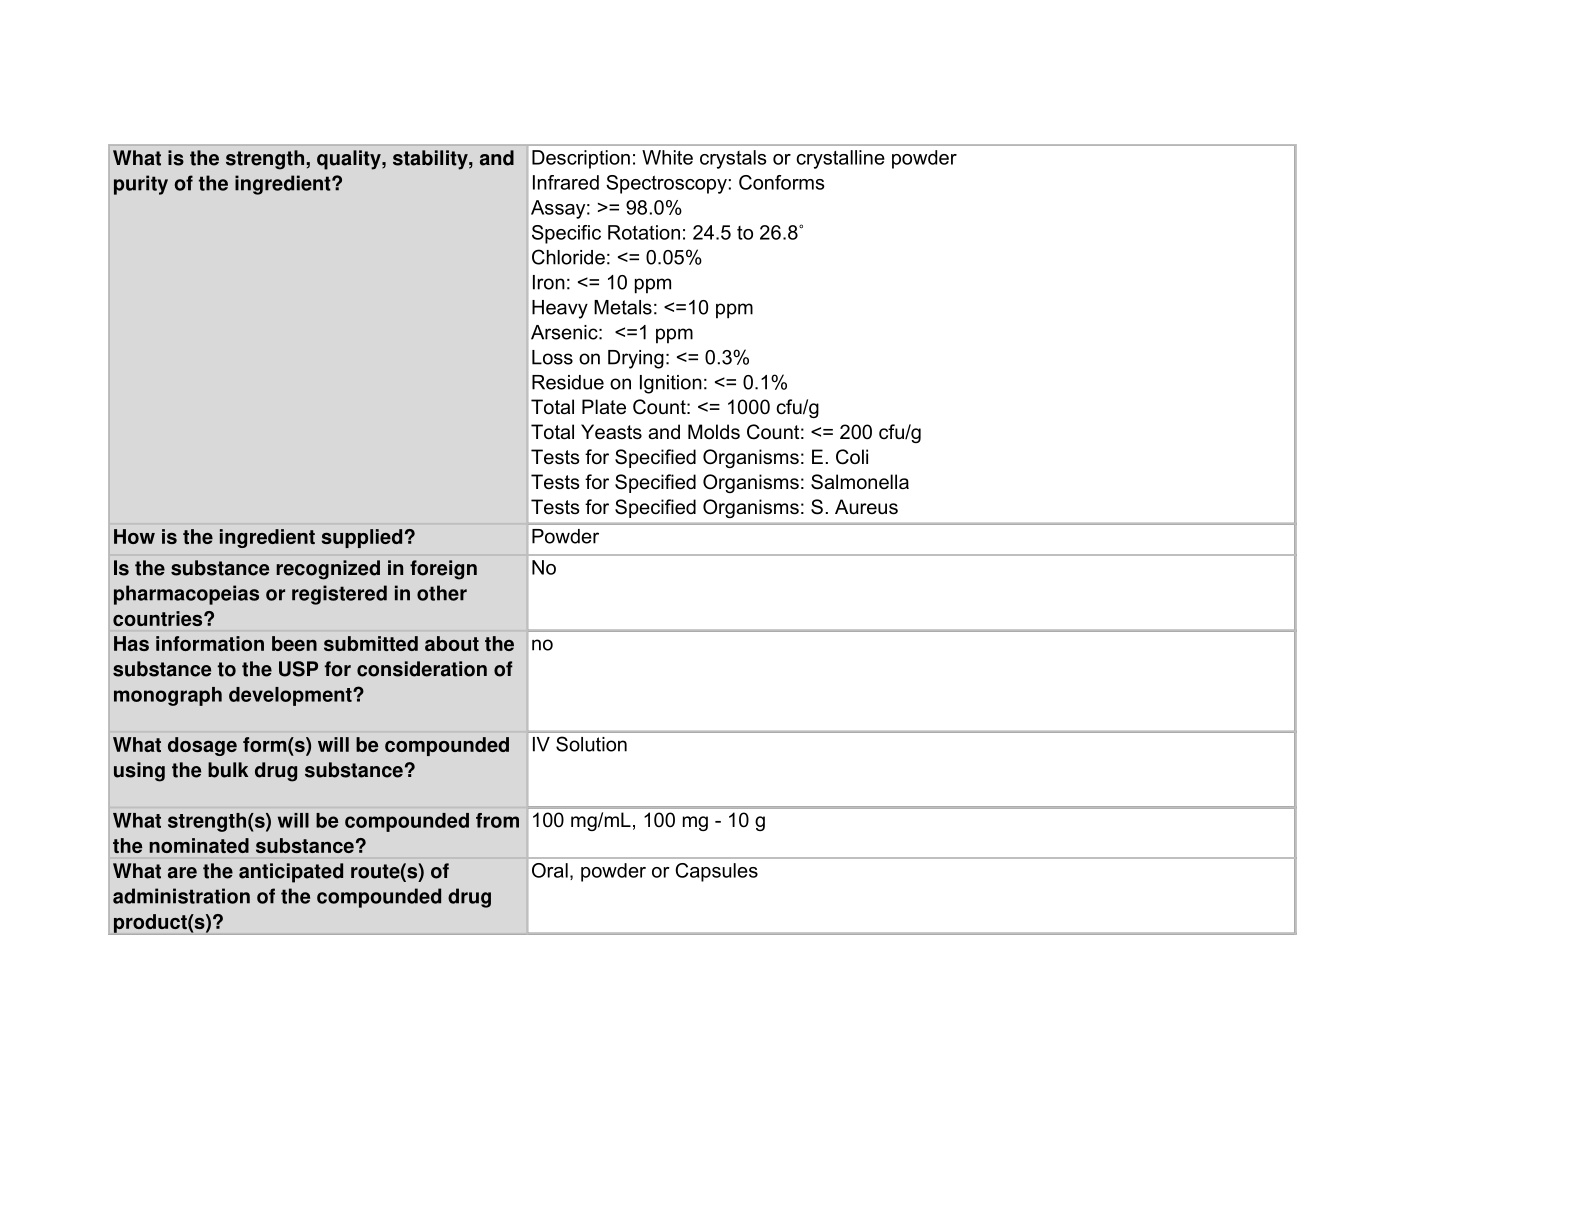full_lined: (103, 141, 1302, 941)
